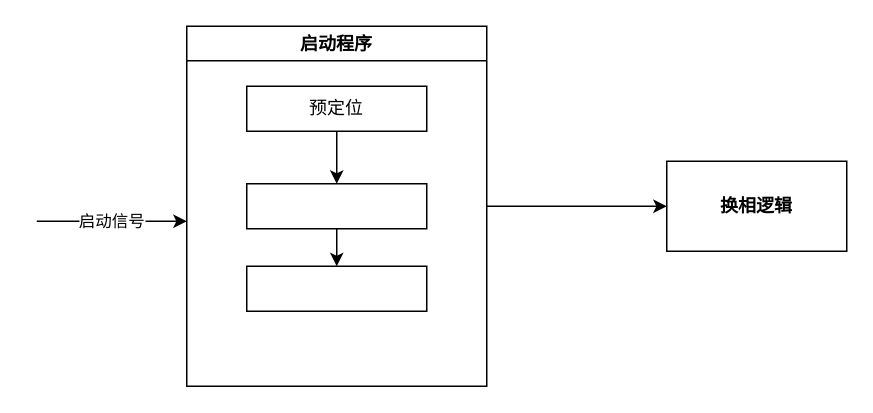
Some shapes in this 873 by 413 pixel diagram are drawn without their labels. Here are the shapes that lost their labels. From the top down, the centre of each, then its label:
(336,205): 开环加速
(336,288): 状态切换
